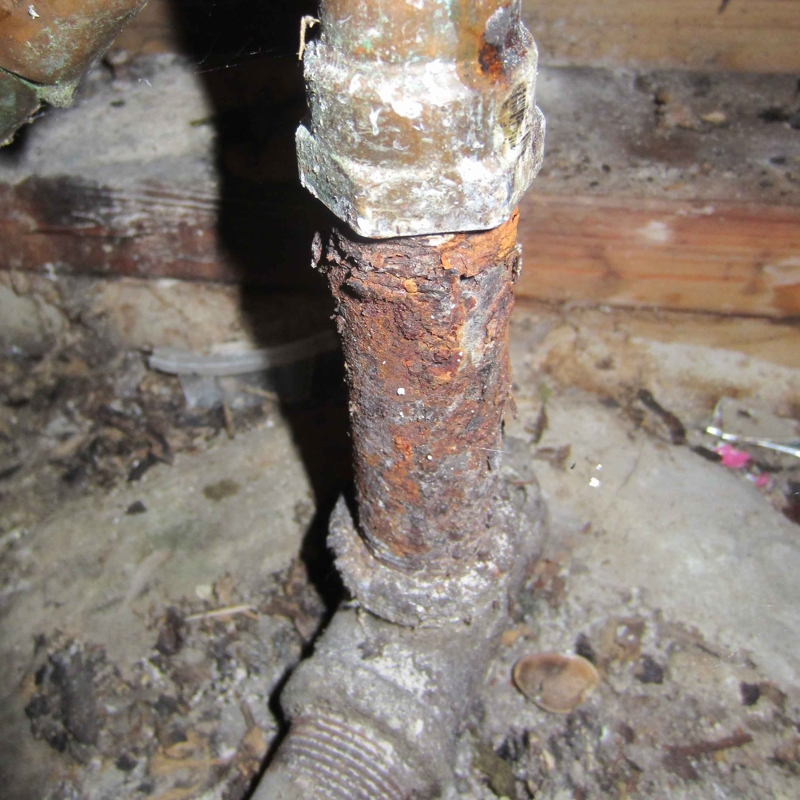Severe: (304, 210, 540, 610)
